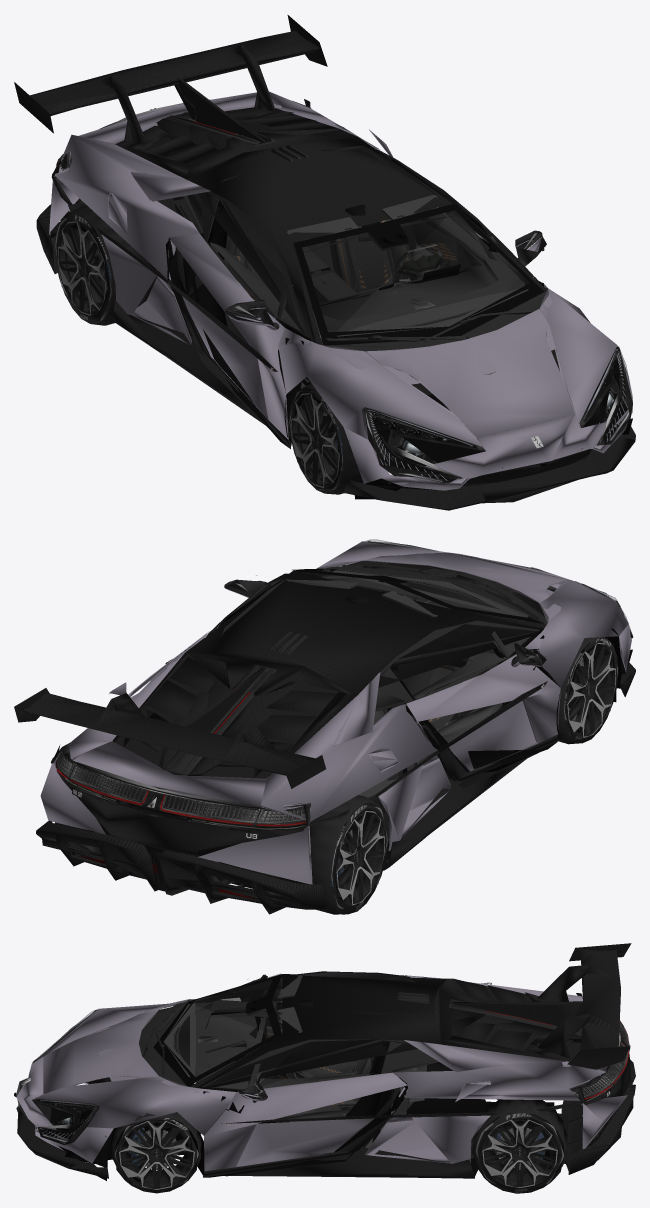
The model's file is byd-yangwang-u9.lod.glb.
3 renders of one model, top to bottom at view 1: azimuth 30°, elevation 25°; view 2: azimuth 150°, elevation 25°; view 3: azimuth 270°, elevation 25°, orthographic. The views are drawn at different scales.
Visible parts, largest first — view 1: SM_RearKit_0000.001, SM_FrontKit_0000.001, SM_Interior_0000.001, SM_Base_0000.001, SM_Hood_0000.001, SM_Hub_L_0000.004, SM_Hub_L_0000.003, polySurface2128_Lamborghini_HuracanPerformanteSpyder_2019_Wh, polySurface1806_Lamborghini_HuracanPerformanteSpyder_2019_Wh; view 2: SM_RearKit_0000.001, SM_Base_0000.001, SM_Interior_0000.001, SM_FrontKit_0000.001, SM_Hub_L_0000.004, SM_Hub_L_0000.003, SM_Hood_0000.001, polySurface2128_Lamborghini_HuracanPerformanteSpyder_2019_Wh, polySurface1806_Lamborghini_HuracanPerformanteSpyder_2019_Wh; view 3: SM_RearKit_0000.001, SM_Base_0000.001, SM_Interior_0000.001, SM_FrontKit_0000.001, SM_Hood_0000.001, SM_Hub_L_0000.002, SM_Hub_L_0000.001, polySurface1968_Lamborghini_HuracanPerformanteSpyder_2019_Wh, polySurface1645_Lamborghini_HuracanPerformanteSpyder_2019_Wh.
Part boxes in pixels (x1,y1,x2,y2): SM_RearKit_0000.001: (14,15,557,442); SM_FrontKit_0000.001: (278,279,635,510); SM_Interior_0000.001: (165,145,544,448); SM_Base_0000.001: (168,173,546,448); SM_Hood_0000.001: (365,309,575,437); SM_Hub_L_0000.004: (58,221,111,316); SM_Hub_L_0000.003: (291,393,342,488); polySurface2128_Lamborghini_HuracanPerformanteSpyder_2019_Wh: (55,212,111,321); polySurface1806_Lamborghini_HuracanPerformanteSpyder_2019_Wh: (289,391,343,489); SM_RearKit_0000.001: (14,561,546,914); SM_Base_0000.001: (169,575,560,781); SM_Interior_0000.001: (165,568,560,797); SM_FrontKit_0000.001: (316,539,635,704); SM_Hub_L_0000.004: (331,810,384,905); SM_Hub_L_0000.003: (565,643,615,738); SM_Hood_0000.001: (365,552,574,603); polySurface2128_Lamborghini_HuracanPerformanteSpyder_2019_Wh: (331,804,388,911); polySurface1806_Lamborghini_HuracanPerformanteSpyder_2019_Wh: (564,637,618,739); SM_RearKit_0000.001: (98,943,635,1178); SM_Base_0000.001: (203,974,407,1177); SM_Interior_0000.001: (153,972,426,1177); SM_FrontKit_0000.001: (14,999,237,1180); SM_Hood_0000.001: (43,1009,158,1094); SM_Hub_L_0000.002: (482,1118,557,1188); SM_Hub_L_0000.001: (118,1119,195,1189); polySurface1968_Lamborghini_HuracanPerformanteSpyder_2019_Wh: (475,1112,564,1193); polySurface1645_Lamborghini_HuracanPerformanteSpyder_2019_Wh: (114,1116,199,1193).
Size of the model in its own units: 0.0207 by 0.0123 by 0.0449.
Materials: 17 (12 with a texture image).
